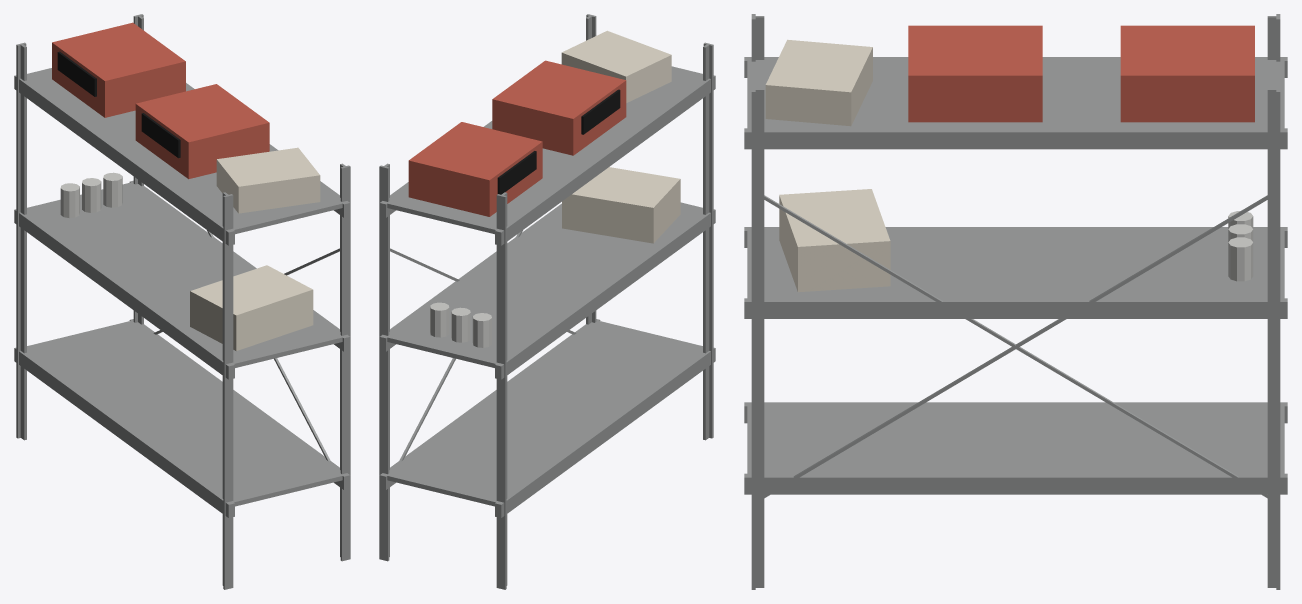
Rendered from shelving.glb.
3 views of the same model, side by side, from view 1: azimuth 30°, elevation 25°; view 2: azimuth 150°, elevation 25°; view 3: azimuth 270°, elevation 25° (orthographic). The views are drawn at different scales.
Parts seen in each view (by area): view 1: Shelving; view 2: Shelving; view 3: Shelving.
Boxes of the visible parts, x1,y1,x2,y2 form: Shelving: (14, 14, 350, 589); Shelving: (379, 14, 715, 589); Shelving: (744, 14, 1287, 589).
Size of the model in its own units: 0.59 by 1.78 by 1.74.
